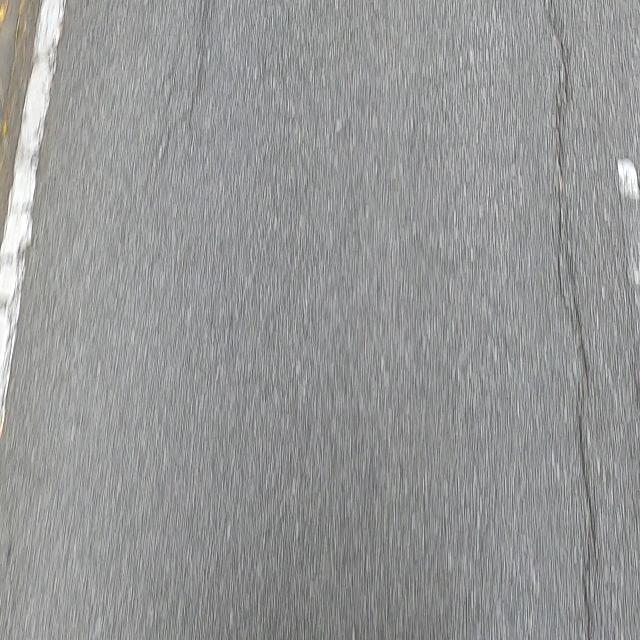Retak-Memanjang: (536, 0, 599, 630)
